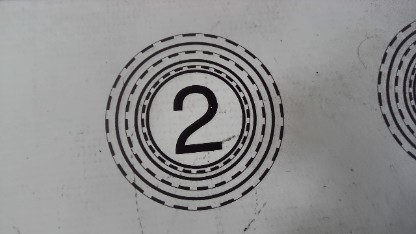2r: (101, 31, 286, 214)
